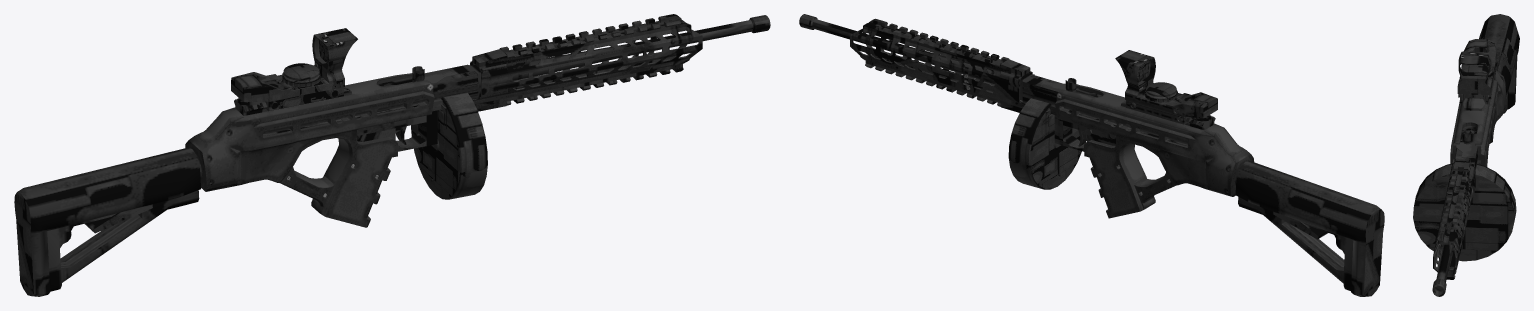
Rendered from gun.glb.
3 views of the same model, side by side, from view 1: azimuth 30°, elevation 25°; view 2: azimuth 150°, elevation 25°; view 3: azimuth 270°, elevation 25° (orthographic). The views are drawn at different scales.
Parts seen in each view (by area): view 1: submachine_gun; view 2: submachine_gun; view 3: submachine_gun.
Part boxes in pixels (left/top/right/bottom): submachine_gun: left=14, top=14, right=770, bottom=296; submachine_gun: left=799, top=14, right=1384, bottom=296; submachine_gun: left=1413, top=14, right=1519, bottom=296.
Size of the model in its own units: 8.38 by 2.24 by 1.27.
1 material, 1 textured.
